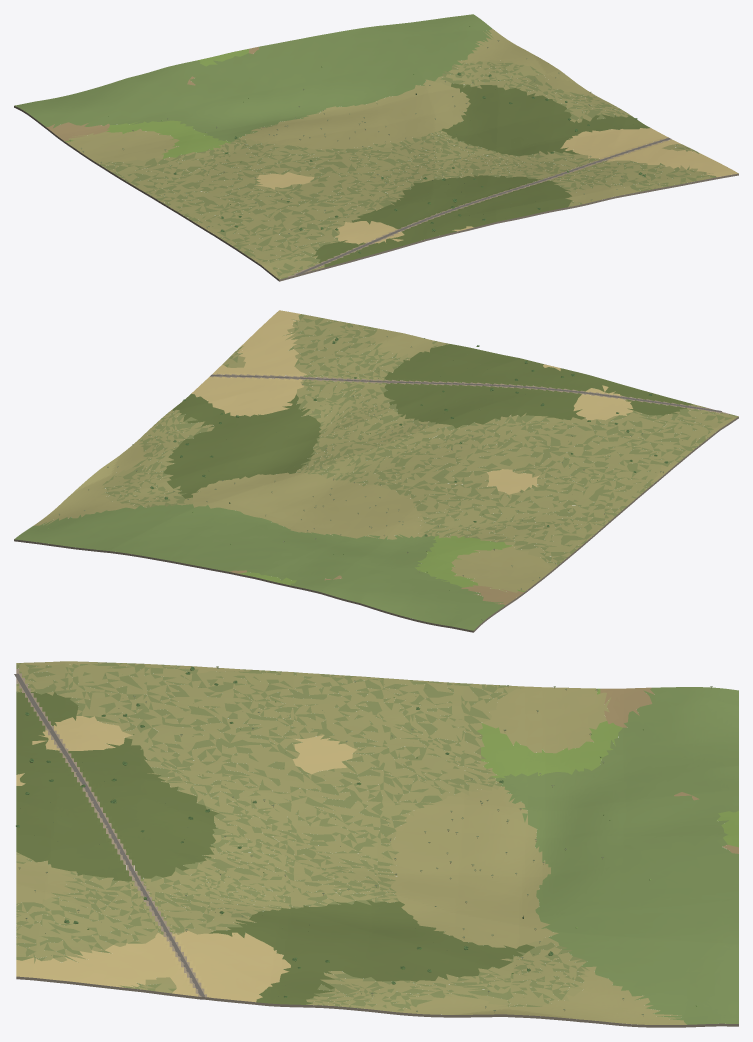
Rendered from parca_+0_-2-yakin.glb.
The picture shows the model from 3 angles, top to bottom: view 1: azimuth 30°, elevation 25°; view 2: azimuth 150°, elevation 25°; view 3: azimuth 270°, elevation 25°; orthographic projection. The views are drawn at different scales.
Parts seen in each view (by area): view 1: parca_+0_-2_arazi, parca_+0_-2_yollar, parca_+0_-2_bitkiler; view 2: parca_+0_-2_arazi, parca_+0_-2_yollar, parca_+0_-2_bitkiler; view 3: parca_+0_-2_arazi, parca_+0_-2_yollar, parca_+0_-2_bitkiler.
Part boxes in pixels (x1=…): parca_+0_-2_arazi: x1=14, y1=14, x2=738, y2=281; parca_+0_-2_yollar: x1=296, y1=138, x2=670, y2=275; parca_+0_-2_bitkiler: x1=24, y1=26, x2=706, y2=253; parca_+0_-2_arazi: x1=14, y1=310, x2=738, y2=632; parca_+0_-2_yollar: x1=210, y1=375, x2=721, y2=412; parca_+0_-2_bitkiler: x1=48, y1=321, x2=667, y2=620; parca_+0_-2_arazi: x1=16, y1=661, x2=738, y2=1027; parca_+0_-2_yollar: x1=14, y1=673, x2=204, y2=997; parca_+0_-2_bitkiler: x1=16, y1=666, x2=712, y2=1016.
Bounding box in the file's own units: 1001 × 108 × 1003.
